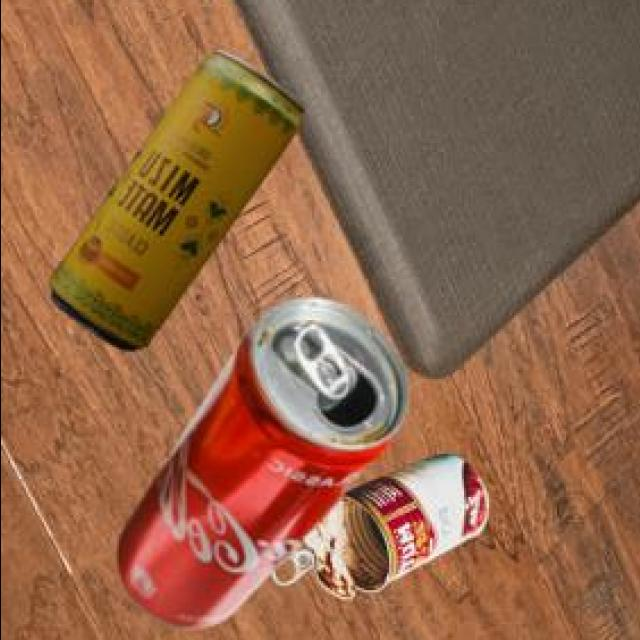logam: (121, 301, 410, 632), (53, 51, 305, 353), (289, 457, 491, 603)
